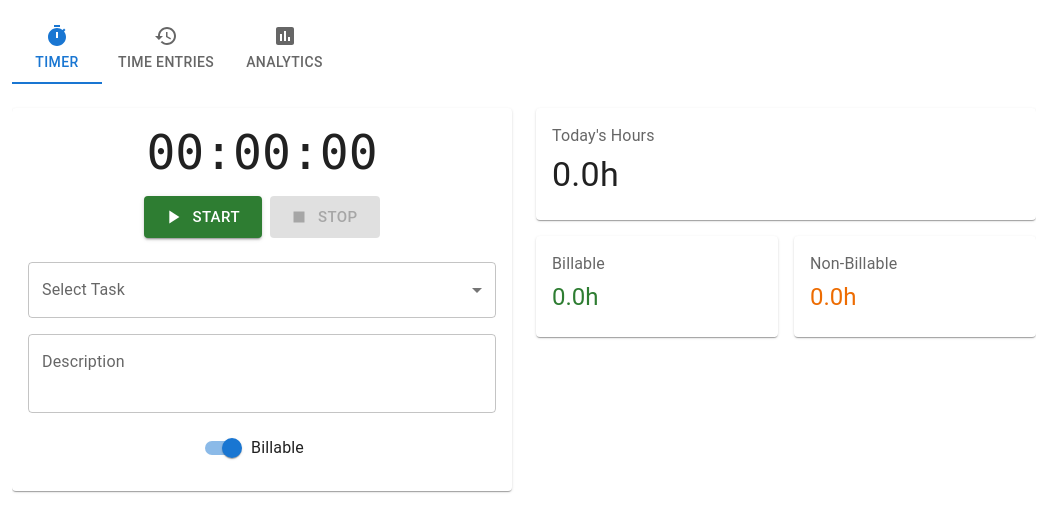
Test: TimeTracker › handles empty time entries list
The width and height of the screenshot is (1048, 510).
Note: Switch to time entries tab
Click the tab "Time Entries": (166, 48) [102,12,230,84]
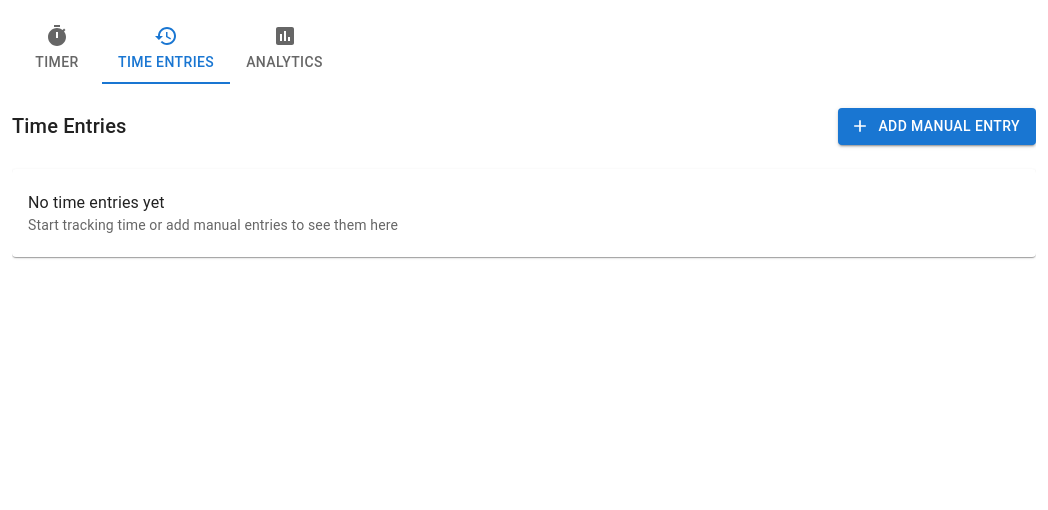
Expected: the text "No time entries yet" is shown, [28,192,165,212]
